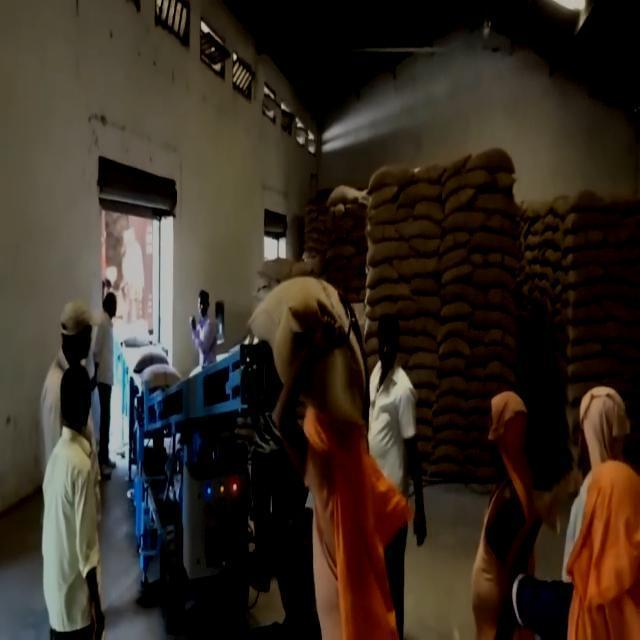gunny_bag: (234, 274, 374, 428), (365, 154, 417, 193), (567, 282, 640, 309), (563, 350, 623, 382), (406, 158, 468, 188), (366, 239, 422, 270), (562, 318, 626, 344), (468, 230, 522, 260), (470, 266, 520, 298), (564, 207, 622, 234), (544, 188, 608, 212), (444, 169, 492, 199), (472, 308, 522, 336), (140, 362, 180, 396), (390, 257, 442, 283), (469, 148, 517, 176), (366, 278, 414, 306), (566, 247, 624, 270), (563, 260, 607, 290), (436, 280, 484, 307), (398, 294, 442, 323), (562, 227, 610, 253), (441, 210, 488, 236), (396, 176, 439, 204), (472, 195, 522, 219), (322, 184, 368, 210), (369, 202, 412, 228), (433, 244, 471, 272), (565, 301, 610, 324), (393, 218, 443, 237), (433, 393, 471, 418), (405, 314, 441, 340), (130, 348, 168, 372), (429, 412, 472, 432), (483, 362, 518, 386), (432, 430, 474, 450), (566, 340, 604, 362), (436, 337, 471, 360), (432, 444, 467, 466), (436, 375, 468, 398), (440, 304, 476, 324), (406, 350, 438, 371)
